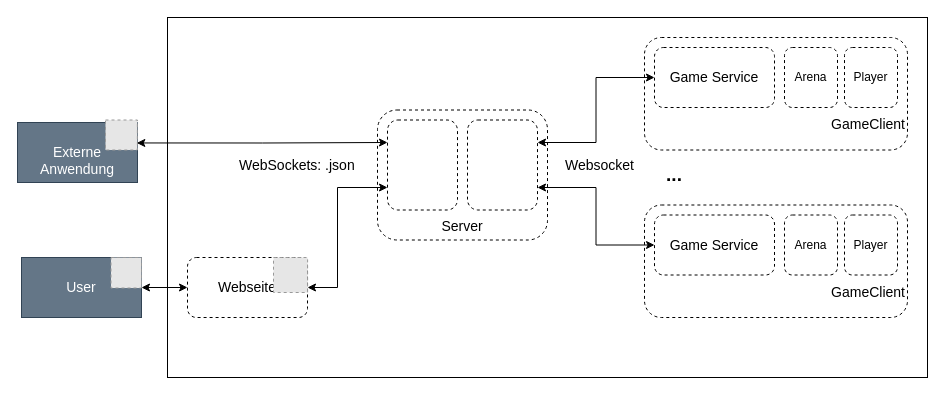
Image size: 945x395. Some labels were removed from this diagram. Grey dashed boxes stand in for pictures. Here are the shapes that lost their labels. From the top down, the centre of each, then its label:
pixel 422 164: FastAPI Server
pixel 502 164: Socket Server
